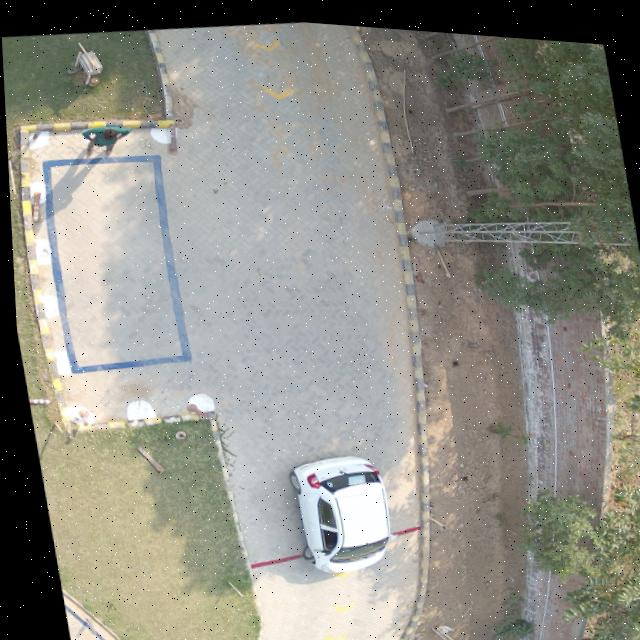car: (282, 450, 386, 567)
